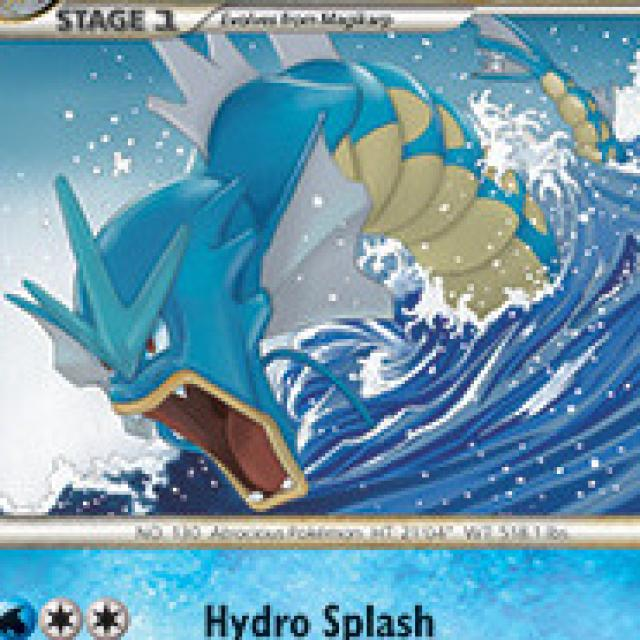Gyarados: (32, 62, 590, 500)
